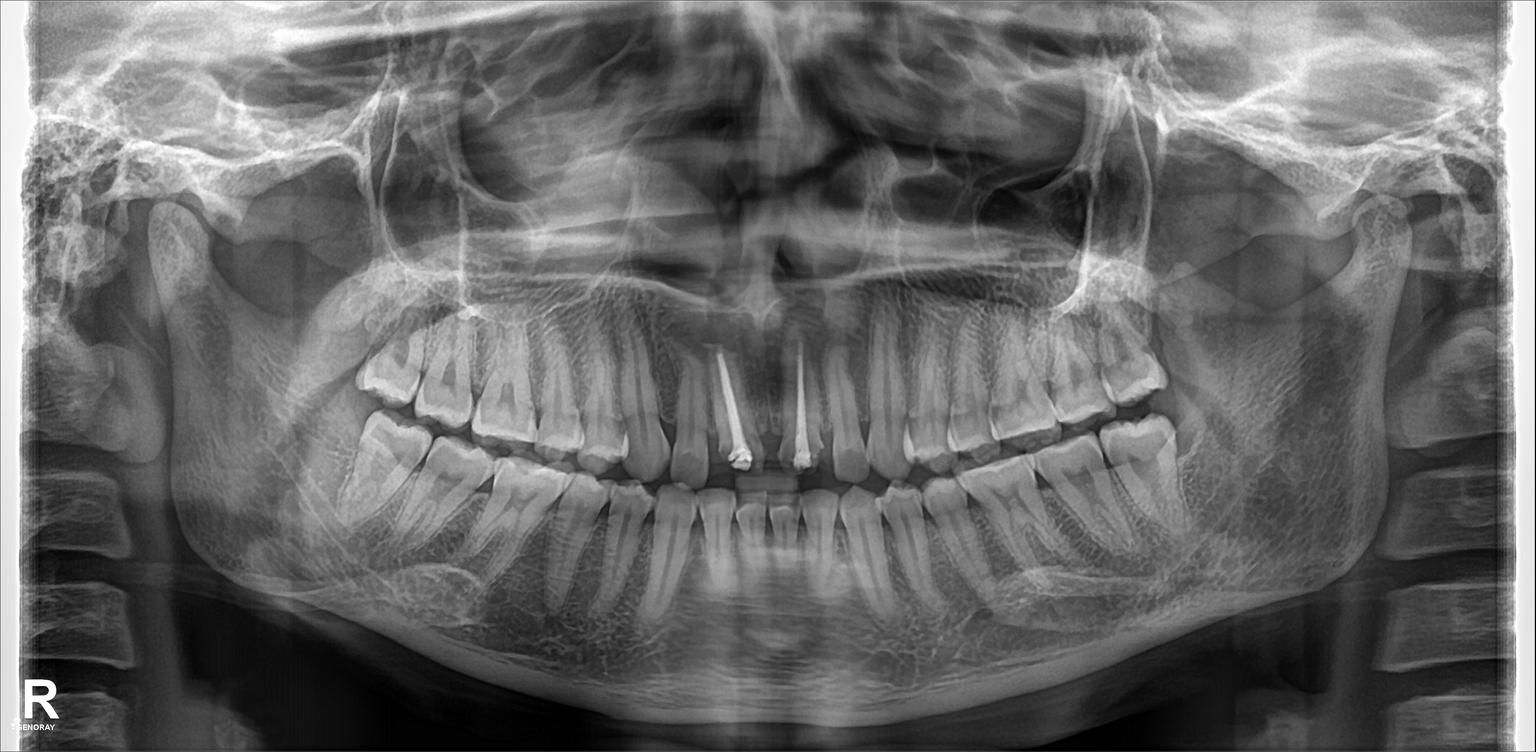Endodontically Treated Tooth: (713, 346, 754, 469), (784, 337, 821, 462)
